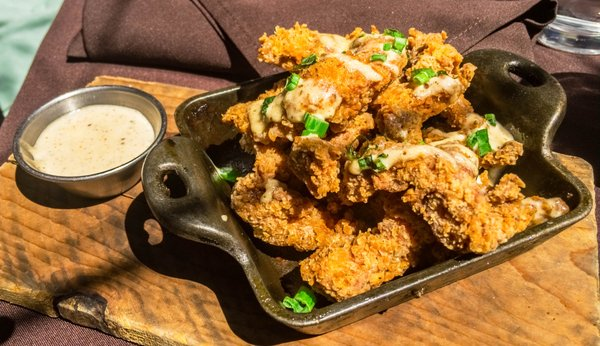sushi: (14, 85, 168, 206)
